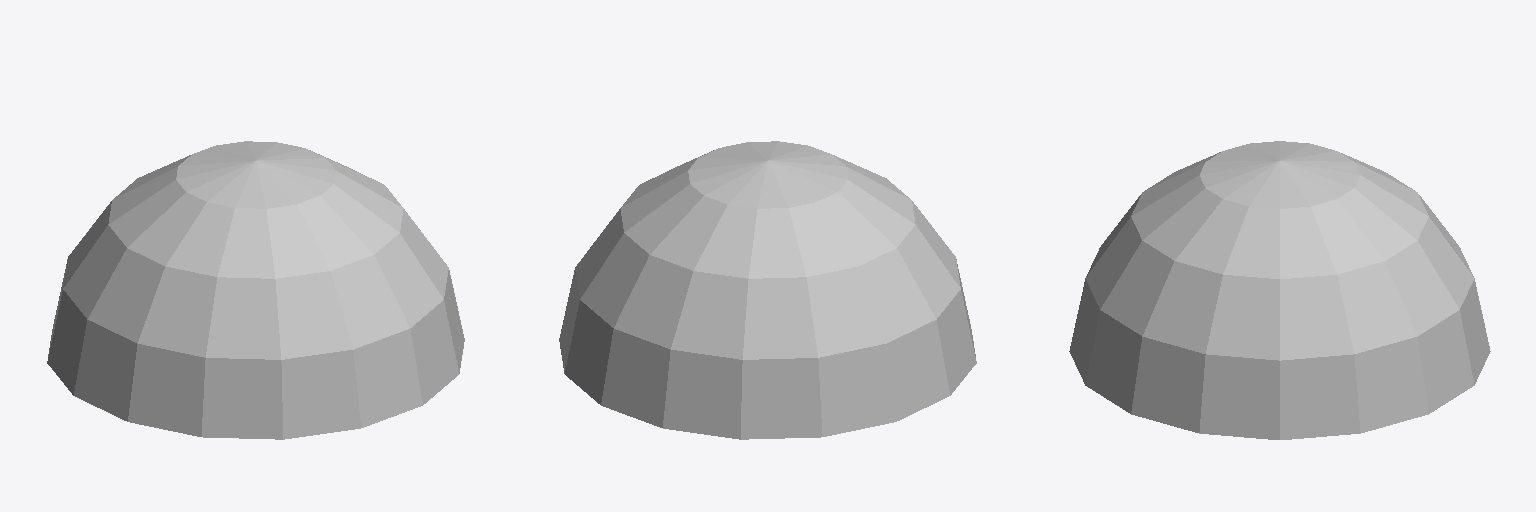
The model's file is targeting_sphere.obj.
The picture shows the model from 3 angles: view 1: azimuth 30°, elevation 25°; view 2: azimuth 150°, elevation 25°; view 3: azimuth 270°, elevation 25°; orthographic projection.
Visible parts, largest first — view 1: Sphere; view 2: Sphere; view 3: Sphere.
Part boxes in pixels (x1,y1,x2,y2): Sphere: (47,141,464,439); Sphere: (559,141,976,439); Sphere: (1069,141,1490,439).
Size of the model in its own units: 2 by 1 by 2.